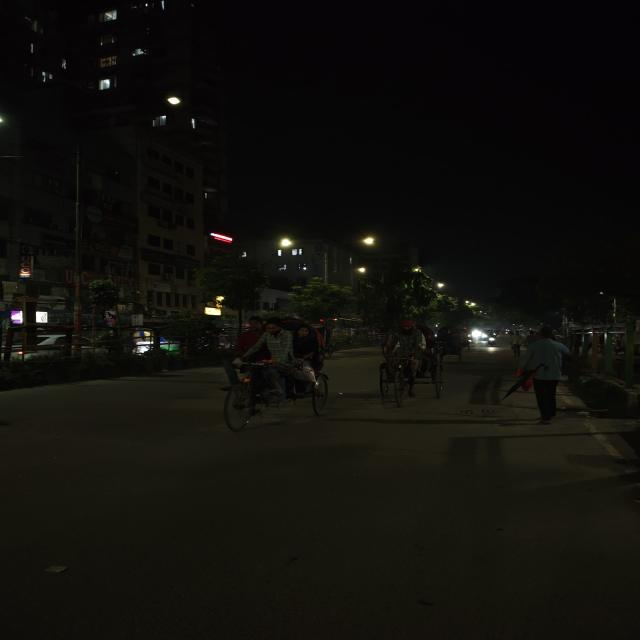pedestrian: (512, 324, 576, 425), (508, 329, 526, 357)
rickshaw: (211, 315, 343, 434), (376, 316, 448, 404), (435, 324, 469, 358)
